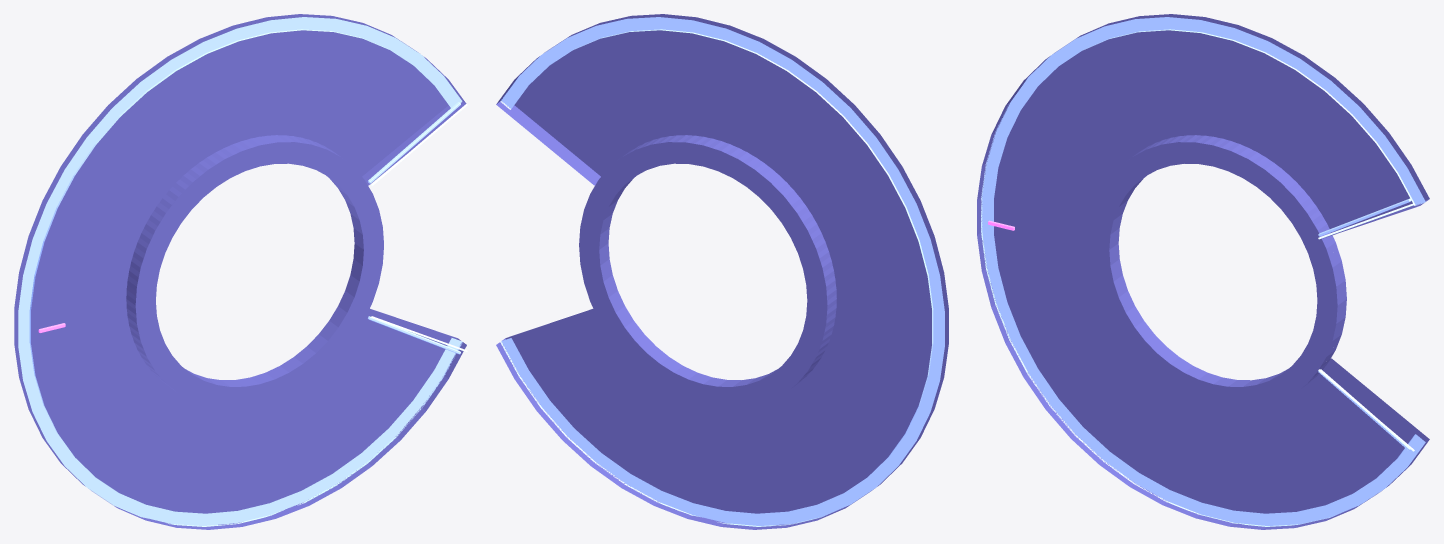
Rendered from prism-panel-fun4-medium.glb.
The picture shows the model from 3 angles, left to right: view 1: azimuth 30°, elevation 25°; view 2: azimuth 150°, elevation 25°; view 3: azimuth 330°, elevation 25°; orthographic projection.
Parts seen in each view (by area): view 1: RENDER_PANEL_SHELL, RENDER_PANEL_FRAME, RENDER_PANEL_SIGNAL; view 2: RENDER_PANEL_SHELL, RENDER_PANEL_FRAME; view 3: RENDER_PANEL_SHELL, RENDER_PANEL_FRAME, RENDER_PANEL_SIGNAL.
Part boxes in pixels (left/top/right/bottom): RENDER_PANEL_SHELL: left=14, top=14, right=466, bottom=529; RENDER_PANEL_FRAME: left=18, top=17, right=462, bottom=526; RENDER_PANEL_SIGNAL: left=371, top=104, right=467, bottom=352; RENDER_PANEL_SHELL: left=496, top=14, right=948, bottom=529; RENDER_PANEL_FRAME: left=500, top=17, right=944, bottom=526; RENDER_PANEL_SHELL: left=977, top=14, right=1429, bottom=529; RENDER_PANEL_FRAME: left=981, top=17, right=1425, bottom=526; RENDER_PANEL_SIGNAL: left=1318, top=203, right=1414, bottom=451.
Size of what is drawn, in the model's own units: 38.38 by 40.91 by 1.95.
